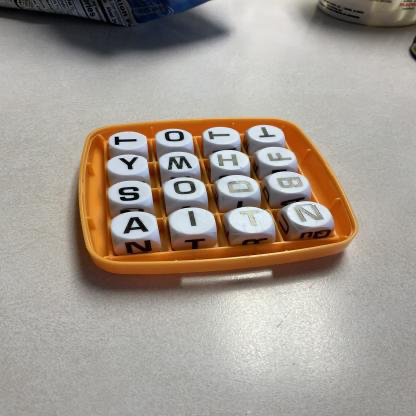a: (112, 212, 157, 240)
b: (269, 172, 309, 194)
d: (219, 176, 259, 198)
f: (258, 148, 296, 167)
h: (212, 151, 250, 171)
i: (171, 209, 216, 236)
n: (288, 202, 332, 228)
o: (164, 178, 206, 201), (156, 130, 193, 148)
s: (109, 182, 152, 205)
t: (230, 208, 274, 234), (110, 132, 148, 151), (249, 126, 285, 144), (204, 128, 240, 146)
w: (161, 153, 200, 173)
y: (108, 155, 149, 176)
